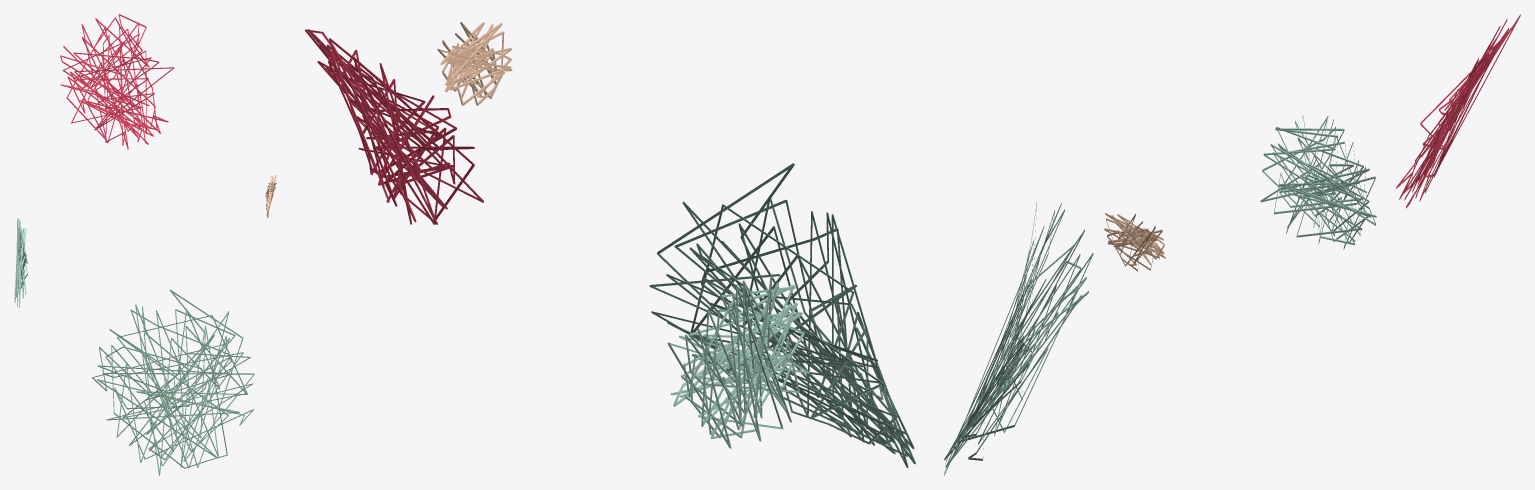
The model's file is Wire_walls_cuts.fbx.
3 renders of one model, left to right at view 1: azimuth 30°, elevation 25°; view 2: azimuth 150°, elevation 25°; view 3: azimuth 270°, elevation 25°, orthographic. The views are drawn at different scales.
Parts seen in each view (by area): view 1: Sweep_1, Sweep, Sweep_2; view 2: Sweep_1, Sweep_2, Sweep, Sweep_3; view 3: Sweep_1, Sweep_2, Sweep, Sweep_3.
Boxes of the visible parts, x1,y1,x2,y2 form: Sweep_1: (92, 289, 254, 475); Sweep: (60, 14, 174, 149); Sweep_2: (14, 218, 28, 307); Sweep_1: (649, 163, 915, 467); Sweep_2: (667, 276, 809, 448); Sweep: (305, 29, 483, 224); Sweep_3: (437, 22, 512, 105); Sweep_1: (944, 202, 1093, 475); Sweep_2: (1260, 115, 1376, 249); Sweep: (1396, 14, 1520, 208); Sweep_3: (1104, 212, 1165, 271).
Bounding box in the file's own units: 51.18 × 70.05 × 72.11.
